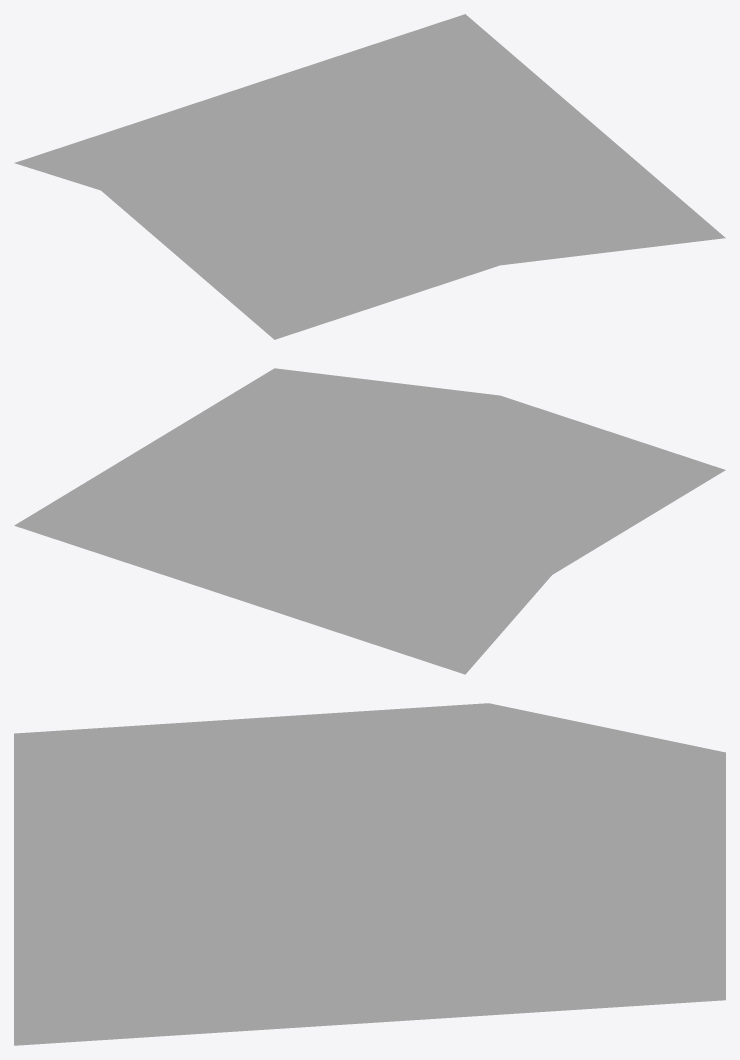
Rendered from poster.glb.
3 renders of one model, top to bottom at view 1: azimuth 30°, elevation 25°; view 2: azimuth 150°, elevation 25°; view 3: azimuth 270°, elevation 25°, orthographic. The views are drawn at different scales.
Parts seen in each view (by area): view 1: poster; view 2: poster; view 3: poster.
Boxes of the visible parts, x1=… form: poster: x1=14, y1=14, x2=725, y2=339; poster: x1=14, y1=368, x2=725, y2=674; poster: x1=14, y1=703, x2=725, y2=1045.
Size of the model in its own units: 1 by 0.0941 by 1.
1 material, 1 textured.
